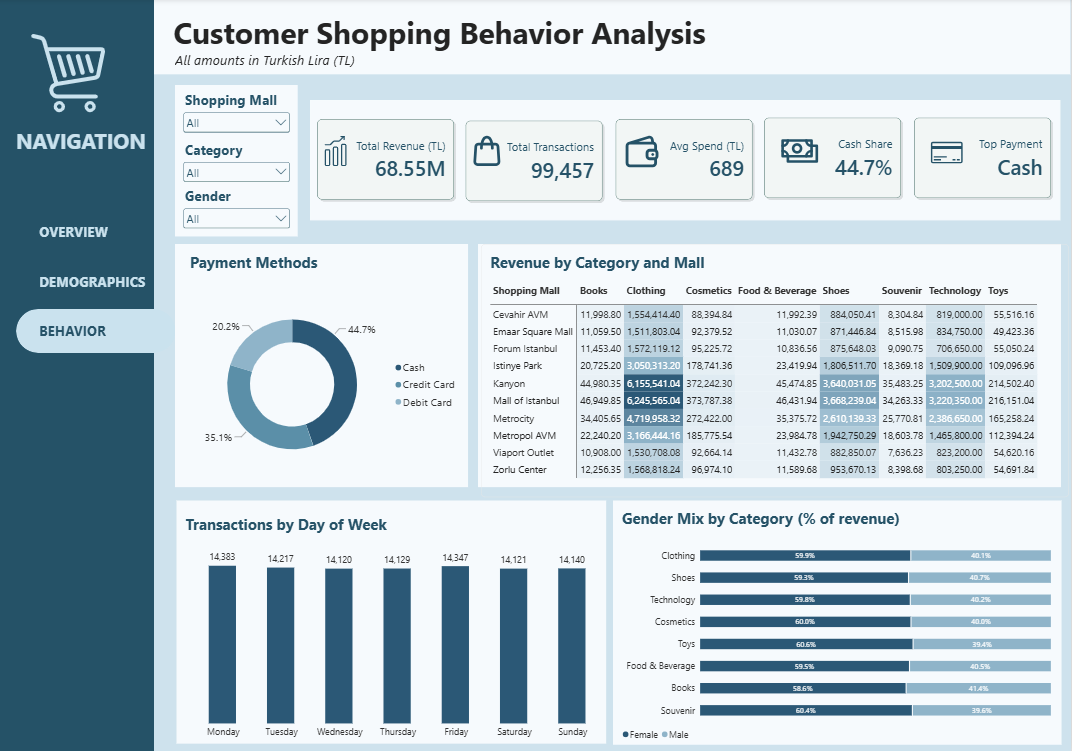

This screenshot's page, from the dashboard's own definition file:
{"tool":"powerbi","page":{"name":"BEHAVIOR","canvas":[1920,1350],"ordinal":2},"visuals":[{"type":"shape","box":[0,0,279.3,1350.9],"z":0,"group":"g1"},{"type":"group","id":"g1","title":"Group 10","box":[0,0,319.1,1350.9],"z":0},{"type":"textbox","box":[315.9,92.8,368.8,43.8],"z":0,"group":"g3"},{"type":"textbox","box":[314.5,23.2,1052.5,85],"z":1000,"group":"g3"},{"type":"shape","box":[557.4,182.1,1343.6,215.4],"z":2000},{"type":"cardVisual","fields":{"Data":["customer_shopping_clean.Total Transaksi"]},"box":[822.9,203.5,266.5,175.7],"z":2500},{"type":"shape","box":[279,0,1641,137],"z":3000},{"type":"cardVisual","fields":{"Data":["customer_shopping_clean.Total Revenue"]},"box":[556.4,201.1,266.5,175.7],"z":4000},{"type":"shape","box":[317.5,154.7,219.7,271.2],"z":4500,"group":"g2"},{"type":"image","box":[38.8,65.6,176,140.2],"z":5000},{"type":"slicer","fields":{"Values":["customer_shopping_clean.shopping_mall"]},"box":[317.3,154.7,220,85],"z":5000,"group":"g2"},{"type":"cardVisual","fields":{"Data":["customer_shopping_clean.Avg Spend"]},"box":[1091.4,201.1,266.5,175.7],"z":6000},{"type":"slicer","fields":{"Values":["customer_shopping_clean.category"]},"box":[317.7,243.2,220.5,84.6],"z":6000,"group":"g2"},{"type":"group","id":"g2","title":"Group 8","box":[317.3,154.7,220.9,271.2],"z":7000},{"type":"slicer","fields":{"Values":["customer_shopping_clean.gender"]},"box":[317.7,327.8,220.5,84.6],"z":7000,"group":"g2"},{"type":"cardVisual","fields":{"Data":["customer_shopping_clean.Cash Share"]},"box":[1356.3,199.3,266.5,175.7],"z":8000},{"type":"cardVisual","fields":{"Data":["customer_shopping_clean.Top Payment"]},"box":[1625.3,199.3,266.5,175.7],"z":9000},{"type":"image","box":[1380.5,236.3,110.1,75.2],"z":11000},{"type":"image","box":[1659.8,244.4,77.9,61.8],"z":12000},{"type":"textbox","box":[32.8,229.6,235.6,56.7],"z":13000,"group":"g1"},{"type":"shape","box":[316.1,441.4,524.9,435.4],"z":13000},{"type":"donutChart","title":"Payment Methods","fields":{"Category":["customer_shopping_clean.payment_method"],"Y":["customer_shopping_clean.Total Transactions"]},"box":[328.1,441.4,516,453.3],"z":14000},{"type":"shape","box":[319.1,900.7,769.5,435.4],"z":15000},{"type":"shape","box":[858.9,441.4,1043.8,435.4],"z":16000},{"type":"clusteredColumnChart","title":"Transactions by Day of Week","fields":{"Category":["customer_shopping_clean.Day Name"],"Y":["customer_shopping_clean.Total Transactions"]},"box":[319.1,909.6,793.3,435.4],"z":17000},{"type":"shape","box":[1100,900,803.1,437.5],"z":18000},{"type":"pivotTable","title":"Revenue by Category and Mall","fields":{"Columns":["customer_shopping_clean.category"],"Rows":["customer_shopping_clean.shopping_mall"],"Values":["customer_shopping_clean.Total Revenue"]},"box":[864.9,441.4,1052.8,453.3],"z":19000},{"type":"pageNavigator","box":[32.8,378.8,286.3,259.5],"z":19005,"group":"g1"},{"type":"hundredPercentStackedBarChart","title":"Gender Mix by Category (% of revenue)","fields":{"Category":["customer_shopping_clean.category"],"Series":["customer_shopping_clean.gender"],"Y":["customer_shopping_clean.Total Revenue"]},"box":[1100,900,800,450],"z":20000},{"type":"group","id":"g3","title":"Group 1","box":[314.5,23.2,1052.5,113.3],"z":21000},{"type":"image","box":[577.4,241.7,53.7,64.5],"z":23001},{"type":"image","box":[845.5,240.7,58.7,64.6],"z":23002},{"type":"image","box":[1109.8,243.7,85.1,61.7],"z":23003}]}

Visuals, with their boxes in screenshot pixels (x1, y1, x2, y2), scaled from the page's 1920x1350 canvas onto the 1072x751 screenshot:
shape: x1=0 y1=0 x2=156 y2=750
"Group 10" group: x1=0 y1=0 x2=178 y2=750
textbox: x1=176 y1=52 x2=382 y2=76
textbox: x1=176 y1=13 x2=763 y2=60
shape: x1=311 y1=101 x2=1061 y2=221
cardVisual - customer_shopping_clean.Total Transaksi: x1=459 y1=113 x2=608 y2=211
shape: x1=156 y1=0 x2=1071 y2=76
cardVisual - customer_shopping_clean.Total Revenue: x1=311 y1=112 x2=459 y2=210
shape: x1=177 y1=86 x2=300 y2=237
image: x1=22 y1=36 x2=120 y2=114
slicer - customer_shopping_clean.shopping_mall: x1=177 y1=86 x2=300 y2=133
cardVisual - customer_shopping_clean.Avg Spend: x1=609 y1=112 x2=758 y2=210
slicer - customer_shopping_clean.category: x1=177 y1=135 x2=300 y2=182
"Group 8" group: x1=177 y1=86 x2=300 y2=237
slicer - customer_shopping_clean.gender: x1=177 y1=182 x2=300 y2=229
cardVisual - customer_shopping_clean.Cash Share: x1=757 y1=111 x2=906 y2=209
cardVisual - customer_shopping_clean.Top Payment: x1=907 y1=111 x2=1056 y2=209
image: x1=771 y1=131 x2=832 y2=173
image: x1=927 y1=136 x2=970 y2=170
textbox: x1=18 y1=128 x2=150 y2=159
shape: x1=176 y1=246 x2=470 y2=488
"Payment Methods" donutChart: x1=183 y1=246 x2=471 y2=498
shape: x1=178 y1=501 x2=608 y2=743
shape: x1=480 y1=246 x2=1062 y2=488
"Transactions by Day of Week" clusteredColumnChart: x1=178 y1=506 x2=621 y2=748
shape: x1=614 y1=501 x2=1063 y2=744
"Revenue by Category and Mall" pivotTable: x1=483 y1=246 x2=1071 y2=498
pageNavigator: x1=18 y1=211 x2=178 y2=355
"Gender Mix by Category (% of revenue)" hundredPercentStackedBarChart: x1=614 y1=501 x2=1061 y2=750
"Group 1" group: x1=176 y1=13 x2=763 y2=76
image: x1=322 y1=134 x2=352 y2=170
image: x1=472 y1=134 x2=505 y2=170
image: x1=620 y1=136 x2=667 y2=170
